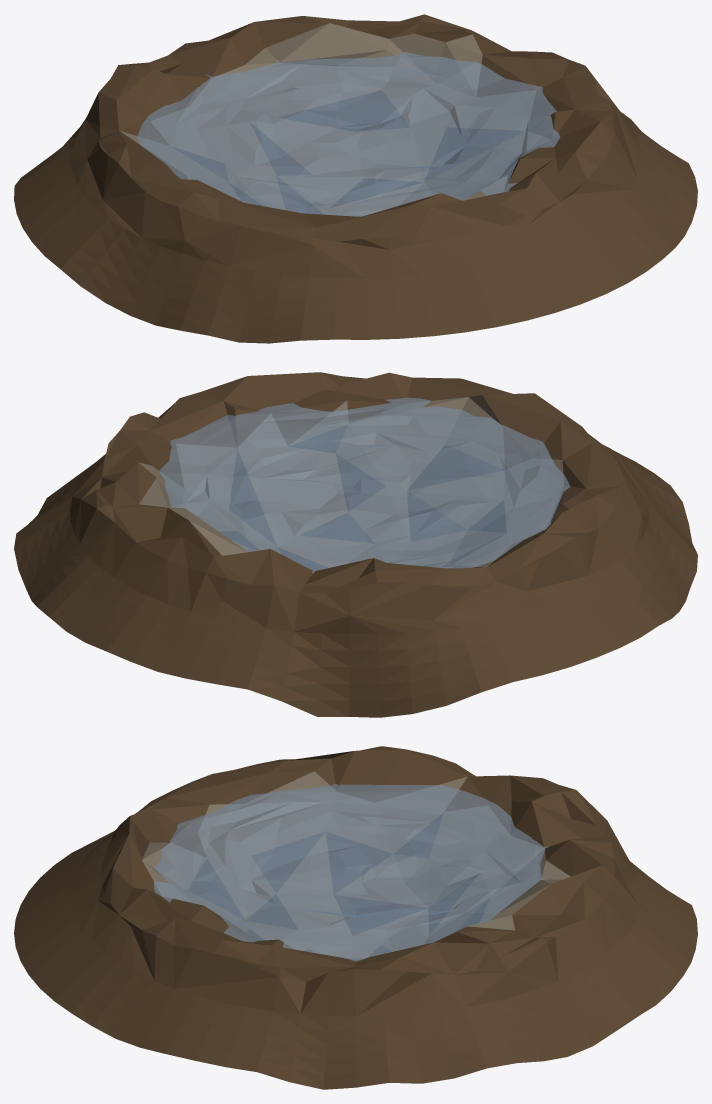
File: feyCircle01.fbx
3 renders of one model, top to bottom at view 1: azimuth 30°, elevation 25°; view 2: azimuth 150°, elevation 25°; view 3: azimuth 270°, elevation 25°, orthographic.
Visible parts, largest first — view 1: feyCircle01_ground, feyCircle01_water; view 2: feyCircle01_ground, feyCircle01_water; view 3: feyCircle01_ground, feyCircle01_water.
Part boxes in pixels (x1,y1,x2,y2): feyCircle01_ground: (14, 14, 697, 343); feyCircle01_water: (137, 52, 559, 216); feyCircle01_ground: (14, 372, 697, 717); feyCircle01_water: (159, 397, 570, 573); feyCircle01_ground: (14, 746, 697, 1089); feyCircle01_water: (154, 784, 548, 961).
Size of the model in its own units: 2085 by 412 by 2102.
